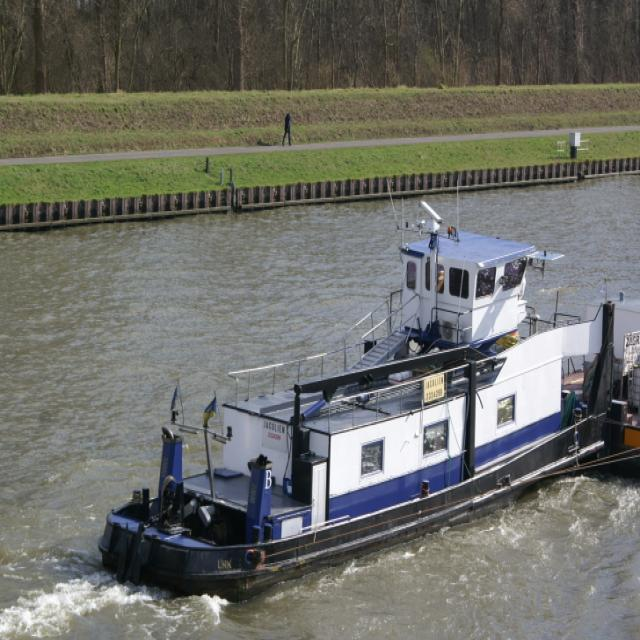tugboat: (96, 199, 622, 616)
